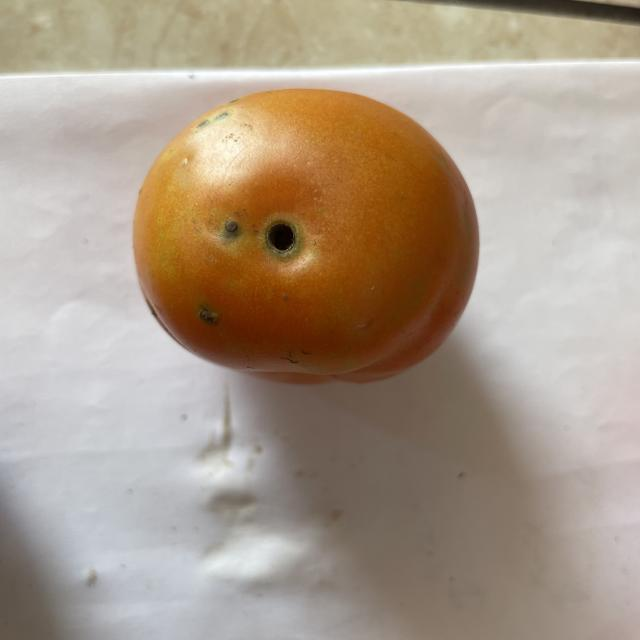fruitworm_bore: (208, 207, 308, 260), (185, 298, 226, 332)
